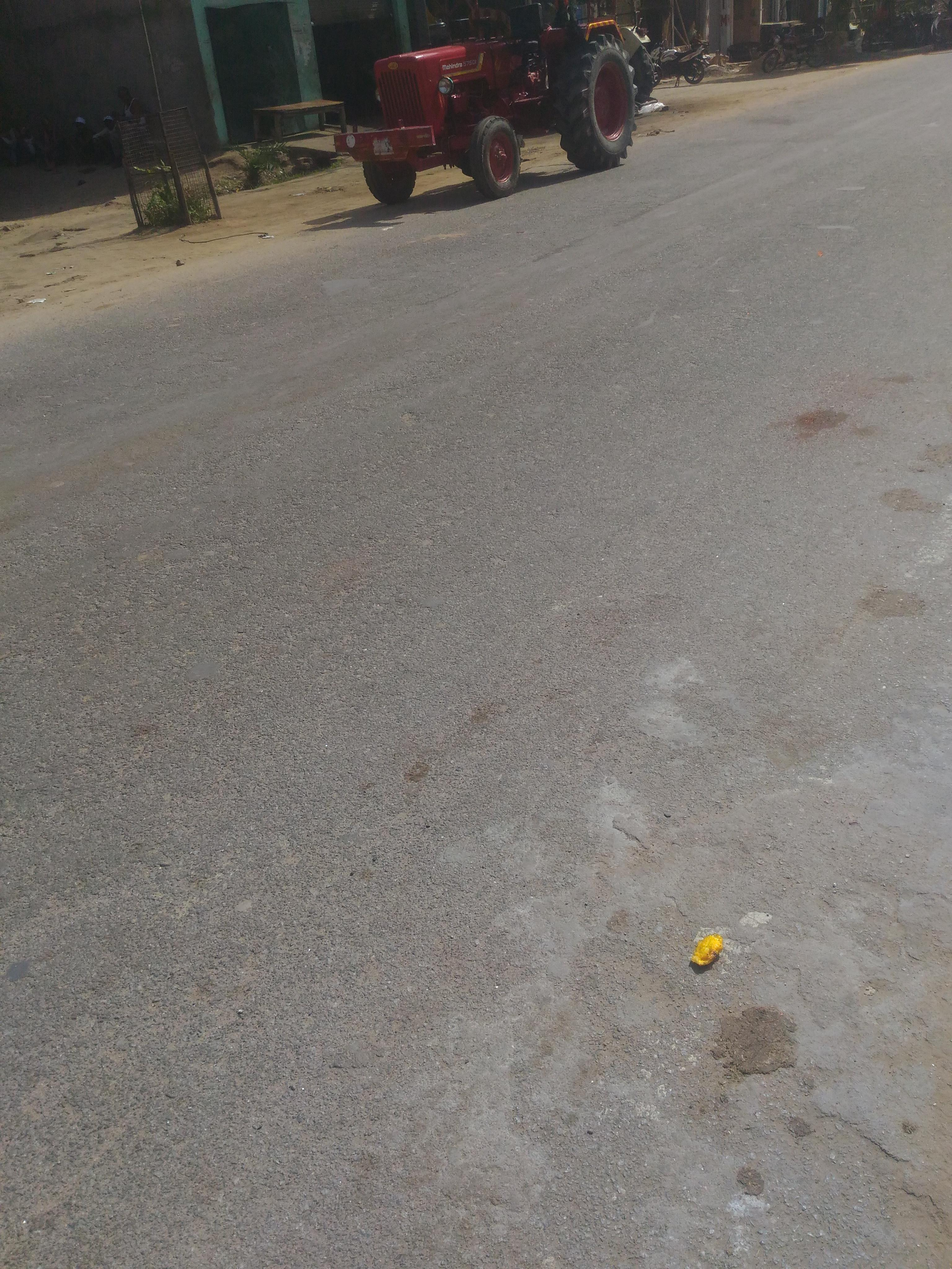Non-emergency: (255, 0, 691, 234)
